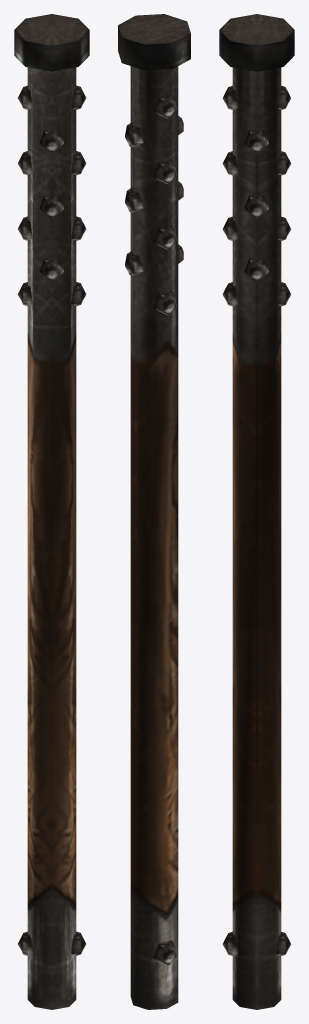
File: Cudgel_grip_default.FBX
3 views of the same model, side by side, from view 1: azimuth 90°, elevation 25°; view 2: azimuth 210°, elevation 25°; view 3: azimuth 270°, elevation 25° (orthographic).
Visible parts, largest first — view 1: Cudgel_grip_default; view 2: Cudgel_grip_default; view 3: Cudgel_grip_default.
Boxes of the visible parts, bbox=[...] form: Cudgel_grip_default: bbox=[14, 14, 89, 1009]; Cudgel_grip_default: bbox=[118, 14, 190, 1009]; Cudgel_grip_default: bbox=[219, 14, 294, 1009].
Size of the model in its own units: 4.25 by 60.17 by 4.24.
Materials: 1 (1 with a texture image).
